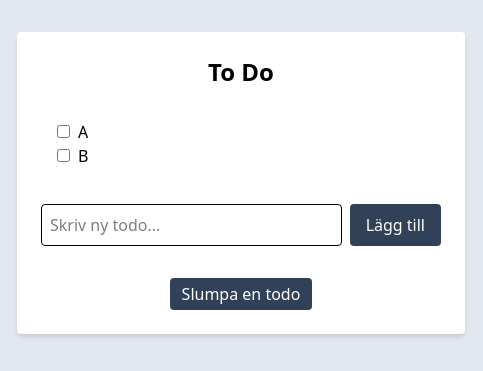
Test: TodoList + RandomTodo › does not pick todos that are marked as done
Click the checkbox labelled "A" at x=64, y=132, box left=57, top=125, right=70, bottom=138
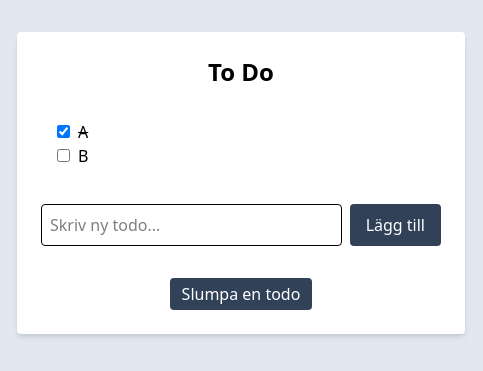
Click the button "Slumpa en todo" at x=241, y=294, box left=170, top=278, right=312, bottom=310
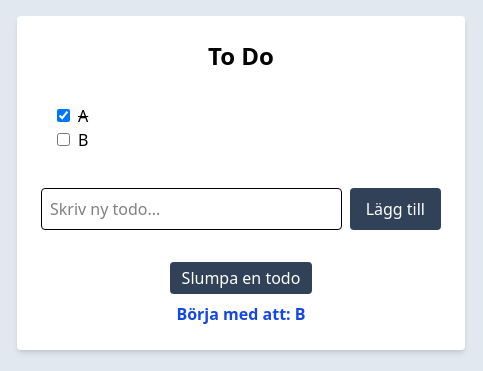
Expected: the text "Börja med att: B" is shown, left=176, top=302, right=306, bottom=326
